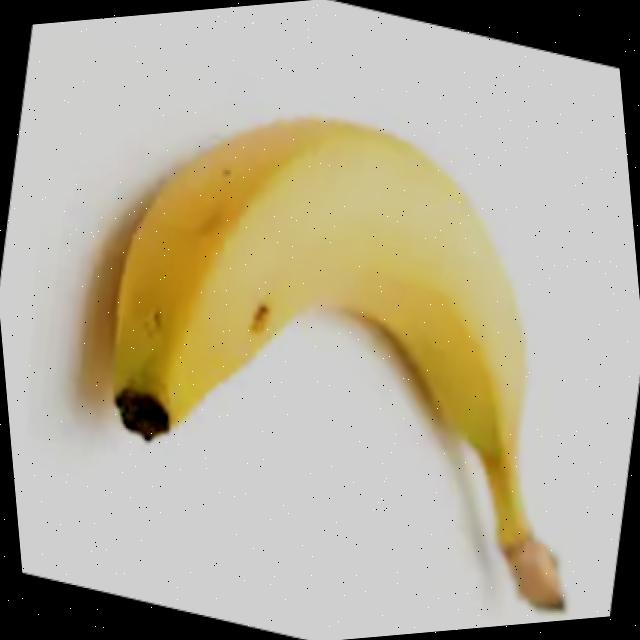banana: (87, 94, 572, 640)
